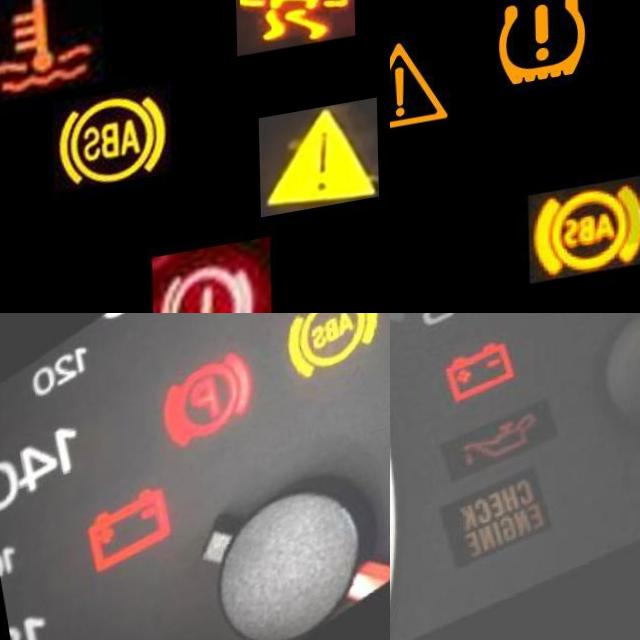Central Warning lamp: (257, 112, 377, 227), (390, 29, 457, 164)
Engine cooling system: (0, 0, 102, 104)
